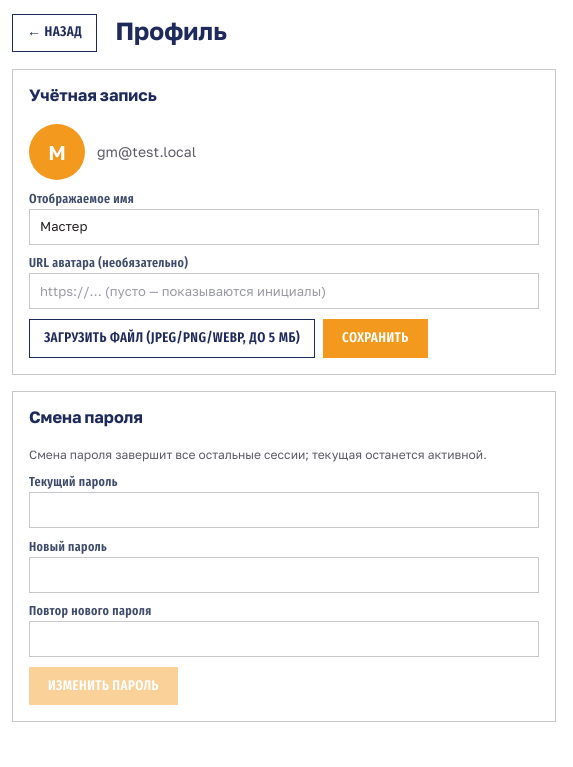
ProfilePage (U-21) › показывает профиль и сохраняет имя/аватар
Expected: the text "gm@test.local" is shown, [97,142,196,163]
Replace the text in the field labelled "Отображаемое имя" with "Новый" at (284, 227), box [29,209,539,245]
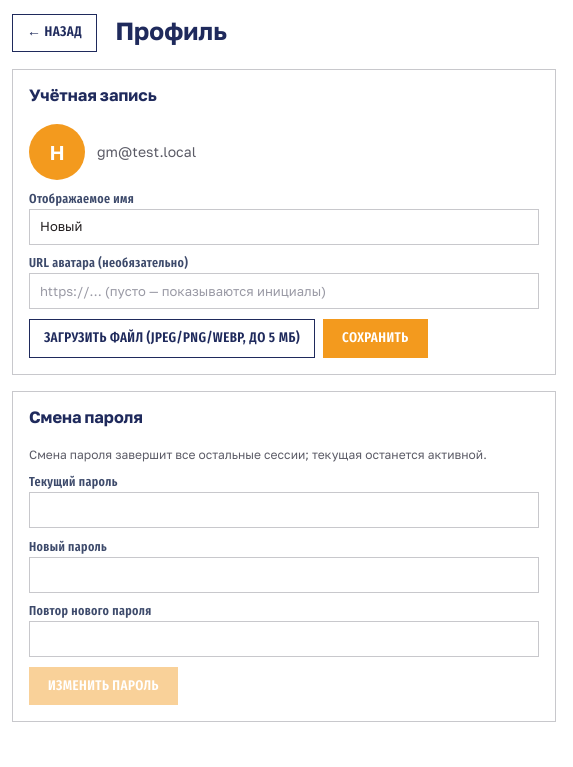
Type "https://cdn/a.png" into the field labelled "URL аватара (необязательно)" at (284, 291), box [29,273,539,309]
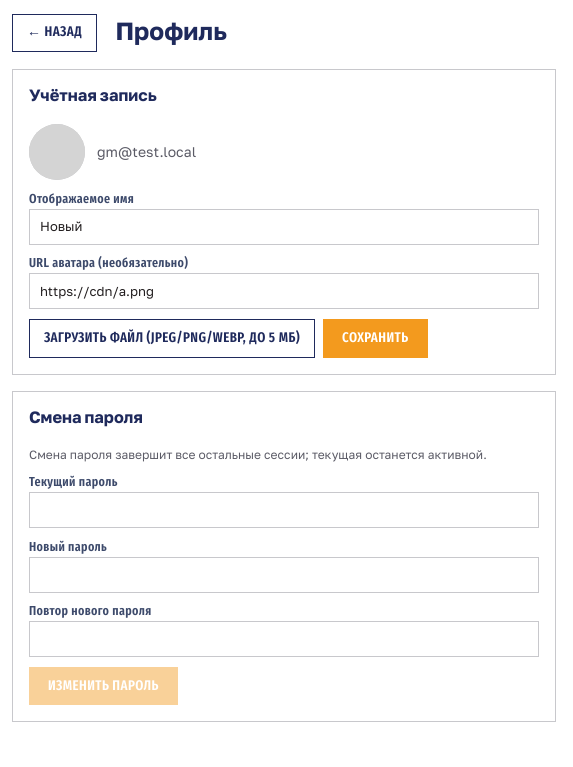
Click the button "Сохранить" at (375, 338), box [323,319,428,358]
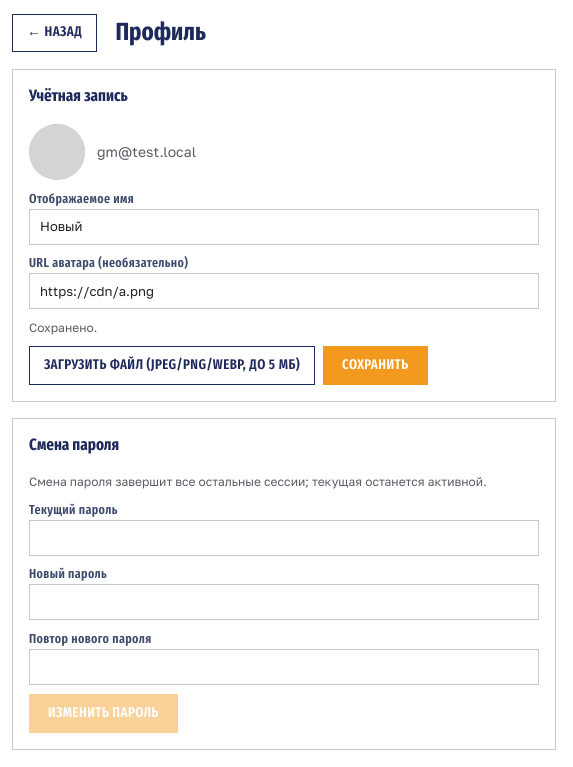
Expected: the text "Сохранено." is shown, [29,320,97,335]
